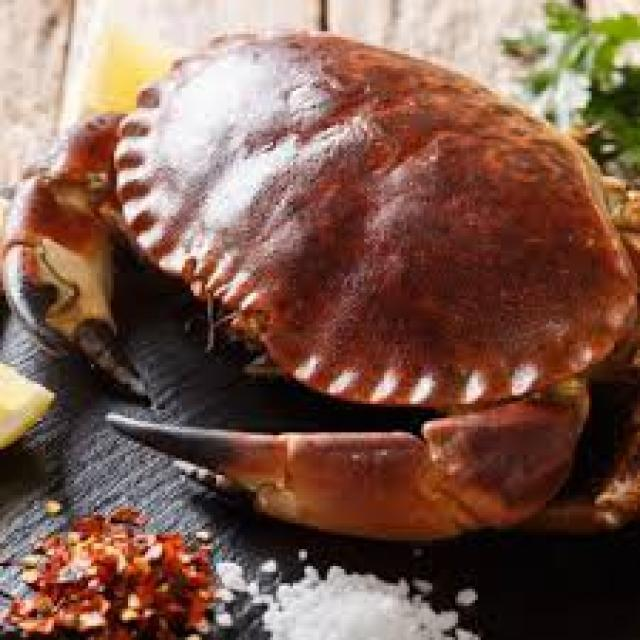crab: (156, 49, 538, 462)
